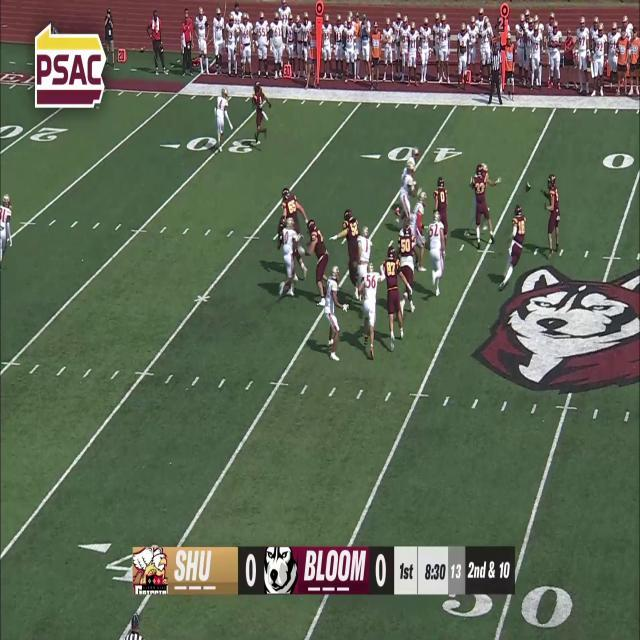football: (524, 180, 532, 193)
